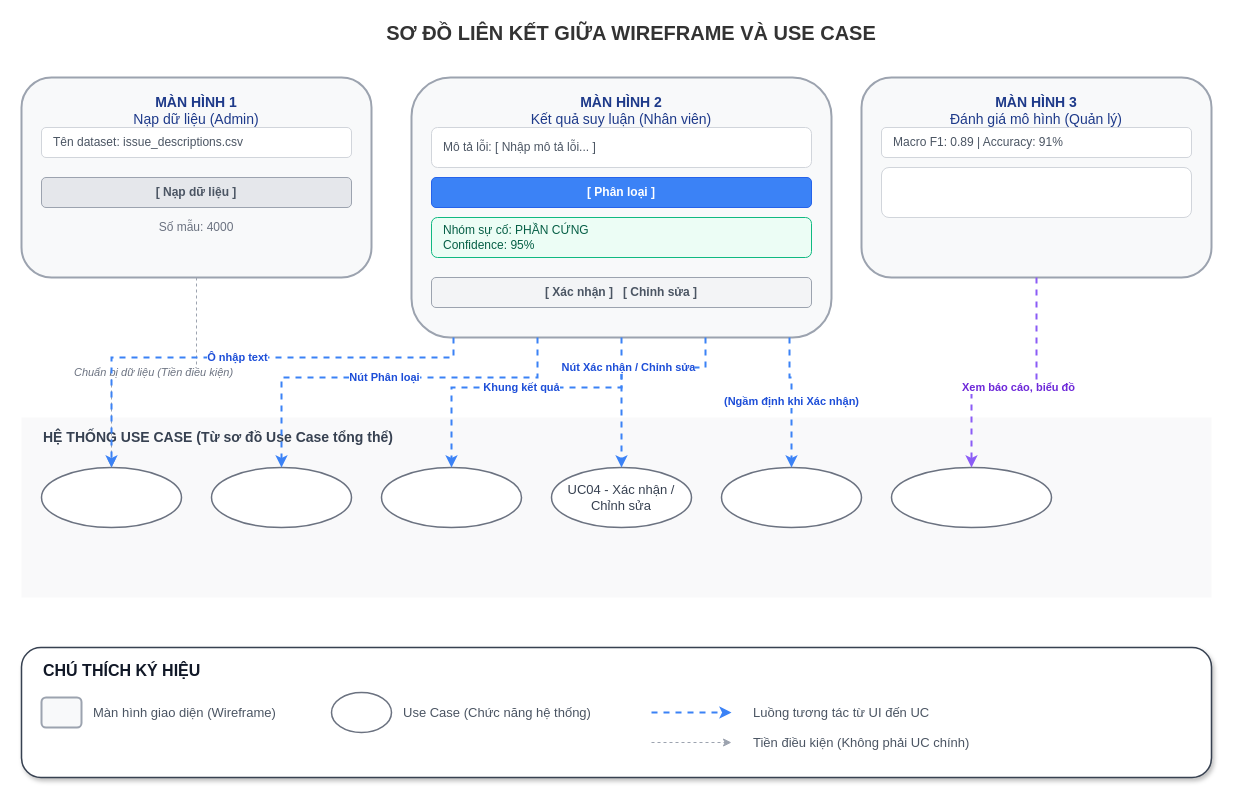
The diagram is 1236 pixels wide and 802 high, and some of its shapes have lost their labels. The shapes that lost their labels are listed below. From the top down, each one's centre as x and y in pixels, then its label:
At point 1036,192: "F1-score theo lớp: MAN_HINH, PIN...".
At point 111,497: "UC01 - Nhập mô tả yêu cầu".
At point 281,497: "UC02 - Phân loại bằng AI".
At point 451,497: "UC03 - Xem kết quả & độ tin cậy".
At point 791,497: "UC05 - Lưu kết quả phân loại".
At point 971,497: "UC07 - Xem thống kê nhóm sự cố".
